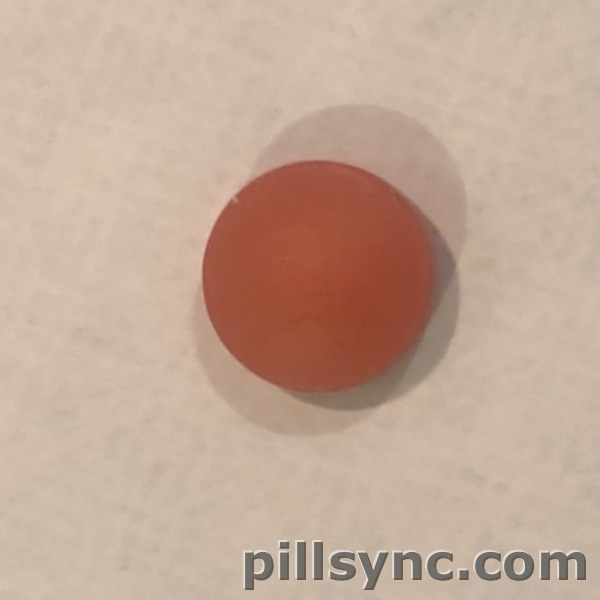Ibuprofen 200 MG Oral Tablet: (190, 151, 447, 405)
